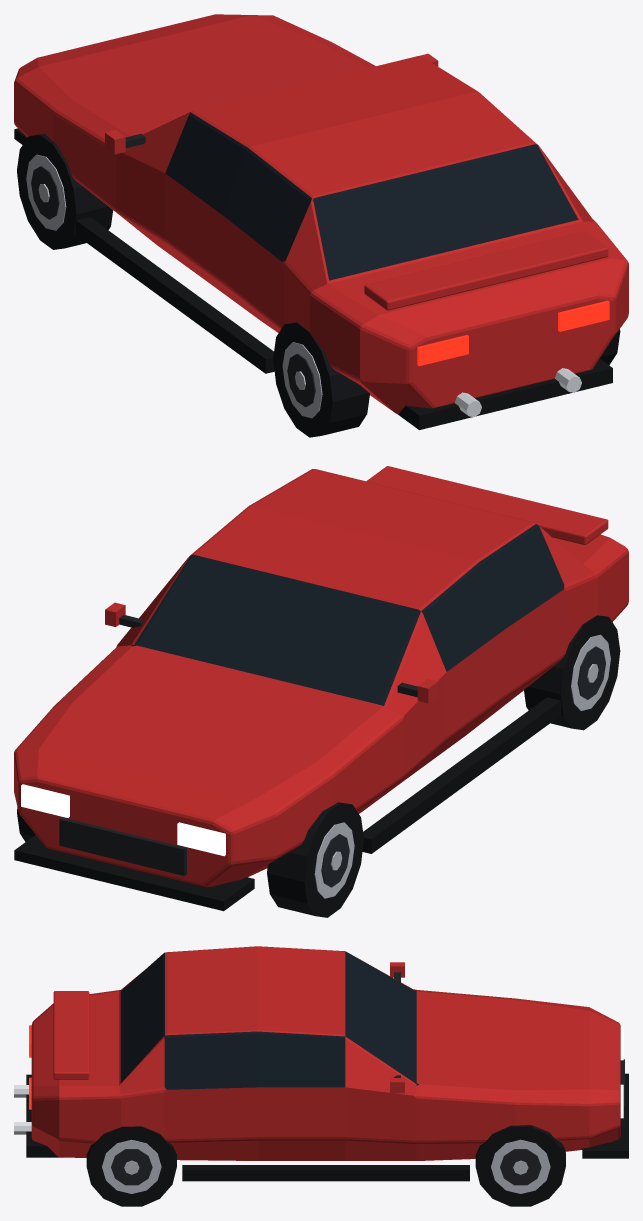
The model's file is car_sport.glb.
3 views of the same model, one above another, from view 1: azimuth 30°, elevation 25°; view 2: azimuth 150°, elevation 25°; view 3: azimuth 270°, elevation 25° (orthographic). The views are drawn at different scales.
Visible parts, largest first — view 1: Body, Wheel_RL, Wheel_FL; view 2: Body, Wheel_FL, Wheel_RL; view 3: Body, Wheel_FR, Wheel_RR.
Part boxes in pixels (x1=…): Body: x1=14, y1=14, x2=628, y2=429; Wheel_RL: x1=273, y1=322, x2=369, y2=437; Wheel_FL: x1=17, y1=134, x2=113, y2=249; Body: x1=14, y1=466, x2=628, y2=911; Wheel_FL: x1=267, y1=802, x2=363, y2=917; Wheel_RL: x1=524, y1=615, x2=620, y2=730; Body: x1=14, y1=946, x2=628, y2=1181; Wheel_FR: x1=475, y1=1125, x2=565, y2=1206; Wheel_RR: x1=86, y1=1126, x2=176, y2=1206.
Size of the model in its own units: 2.07 by 1.33 by 4.49.
